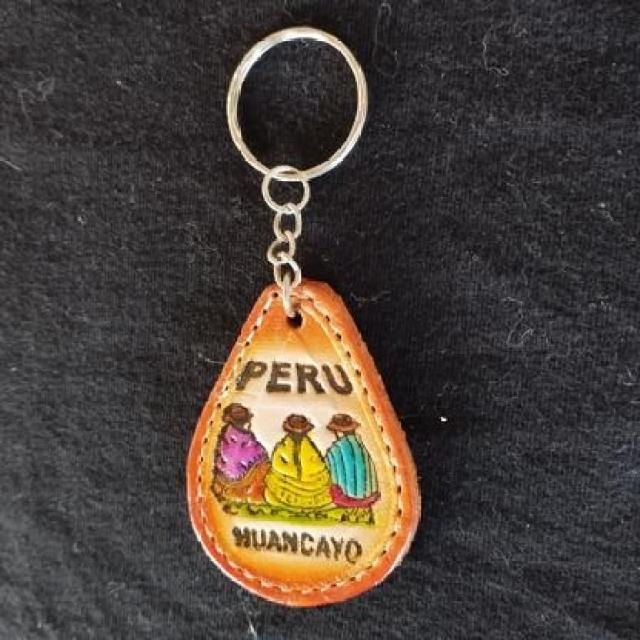Llavero: (185, 277, 422, 608)
